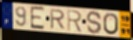9: (15, 6, 28, 28)
E: (29, 5, 46, 31)
O: (102, 12, 119, 36)
R: (49, 8, 67, 31), (66, 9, 83, 33)
S: (86, 10, 103, 35)
